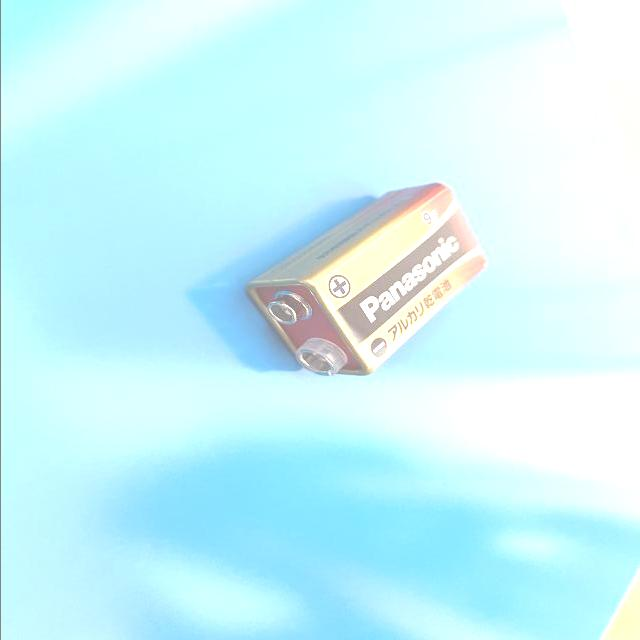9V: (247, 181, 487, 378)
